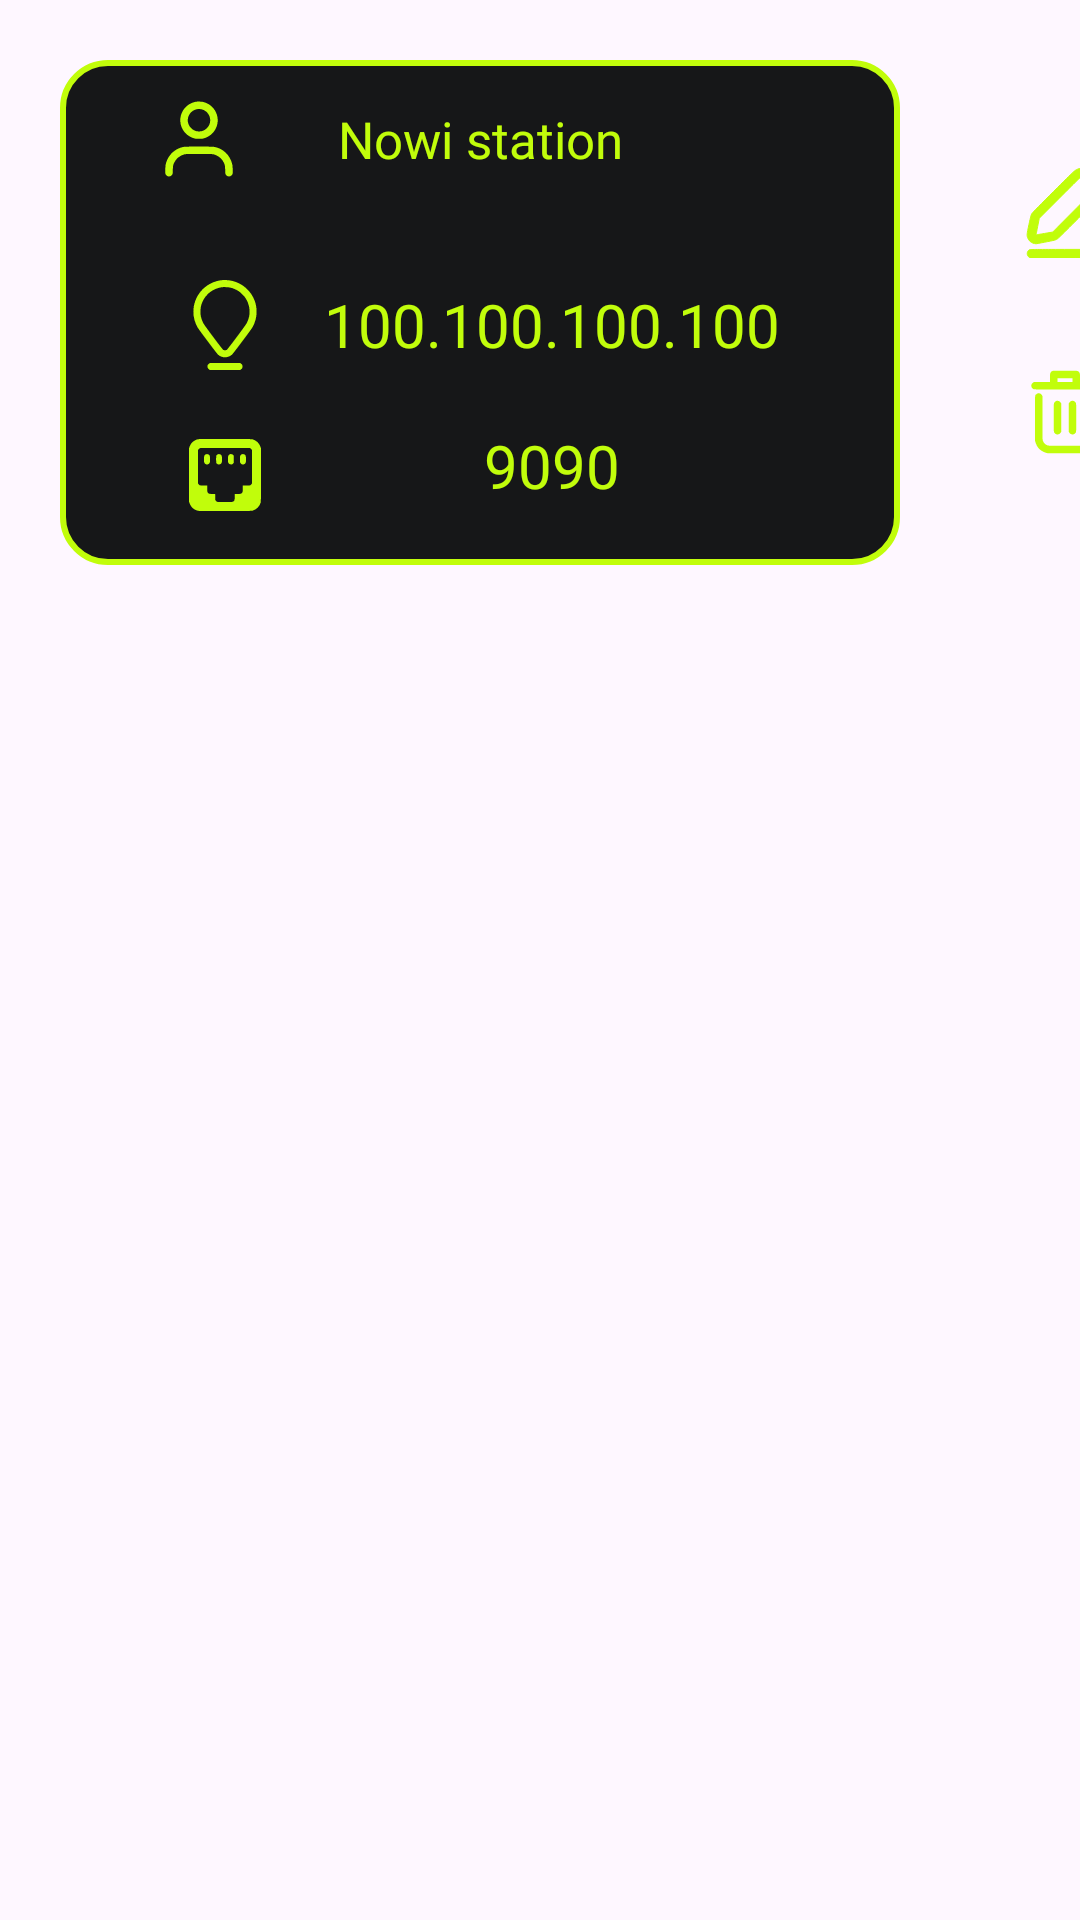

Icons on this 1080px x 1920px Android screen, each with the point to tap as point (x, y):
person: point (199, 139)
ports: point (225, 475)
